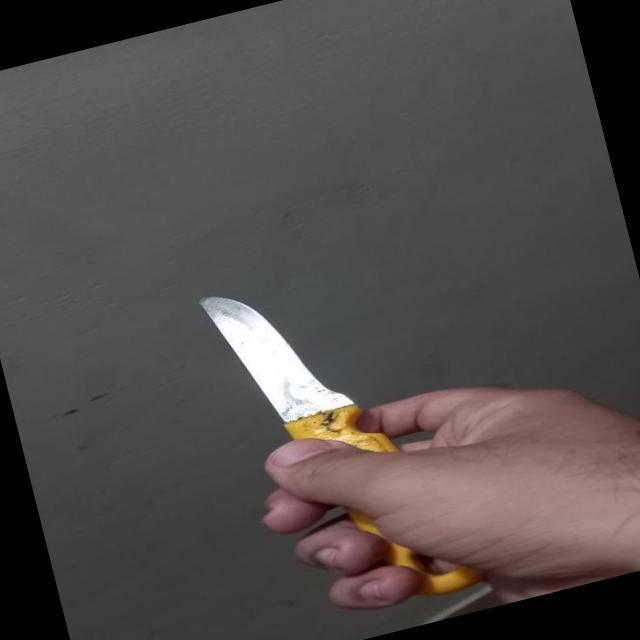Knife: (180, 234, 487, 636)
